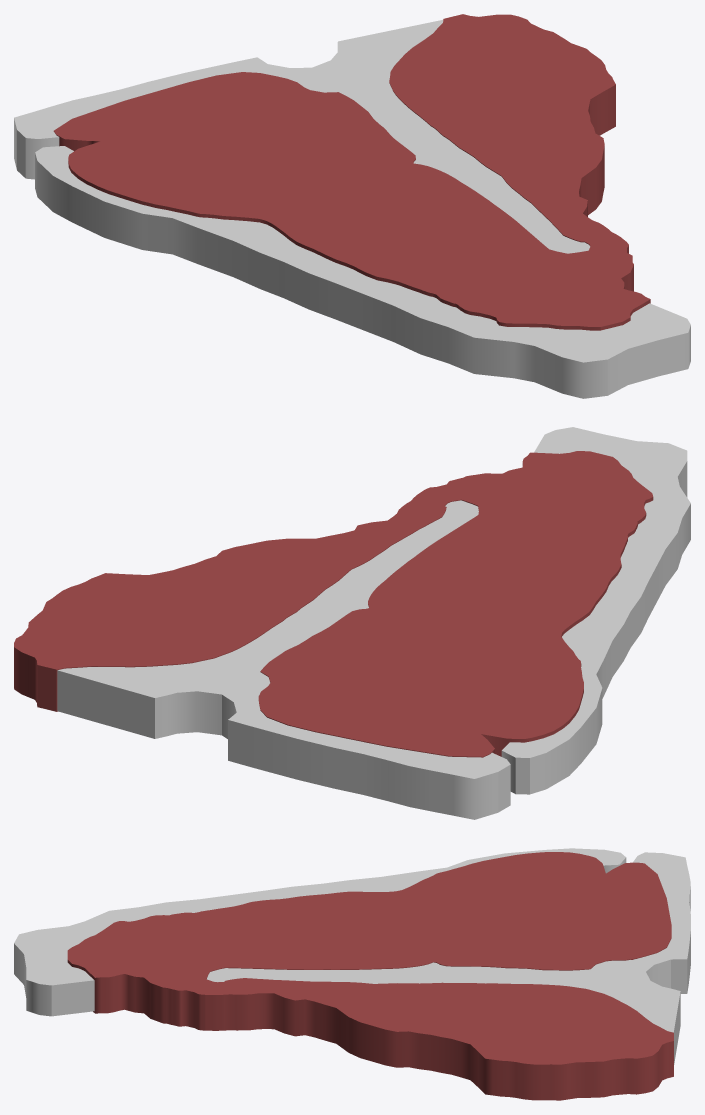
The model's file is Steak.fbx.
The picture shows the model from 3 angles, top to bottom: view 1: azimuth 30°, elevation 25°; view 2: azimuth 150°, elevation 25°; view 3: azimuth 270°, elevation 25°; orthographic projection. The views are drawn at different scales.
Parts seen in each view (by area): view 1: Steak4; view 2: Steak4; view 3: Steak4.
Boxes of the visible parts, <box> form: Steak4: <box>14,14,690,398</box>; Steak4: <box>14,427,690,819</box>; Steak4: <box>14,848,690,1100</box>.
Bounding box in the file's own units: 13.13 × 1 × 17.12.
